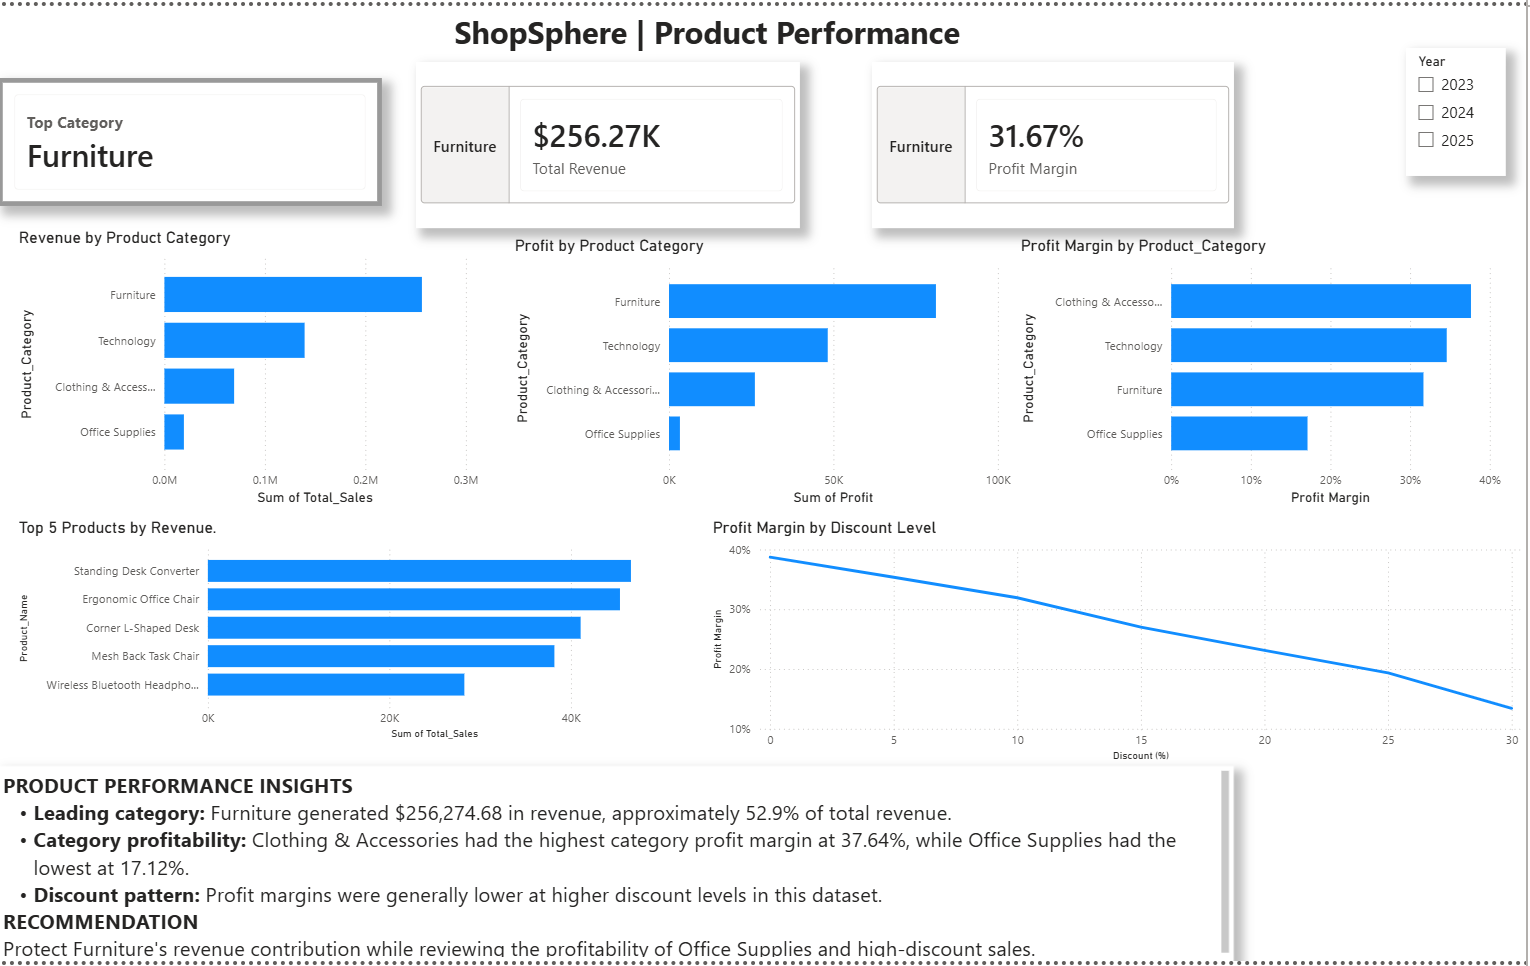

The page's visual inventory and layout, read from the dashboard file:
{"tool":"powerbi","page":{"name":"Page 2","canvas":[1600,1000],"ordinal":1},"visuals":[{"type":"clusteredBarChart","title":"Profit by Product Category","fields":{"Y":["Sum(global_ecommerce_sales.Profit)"],"Category":["global_ecommerce_sales.Product_Category"]},"box":[536.1,240.8,529.8,286.9],"z":0},{"type":"clusteredBarChart","fields":{"Y":["global_ecommerce_sales.Profit Margin"],"Category":["global_ecommerce_sales.Product_Category"]},"box":[1066,240.8,513.1,286.9],"z":1000},{"type":"barChart","title":"Revenue by Product Category","fields":{"Category":["global_ecommerce_sales.Product_Category"],"Y":["Sum(global_ecommerce_sales.Total_Sales)"]},"box":[16.8,232.5,492.1,295.3],"z":2000},{"type":"slicer","fields":{"Values":["global_ecommerce_sales.Order_Date.Variation.Date Hierarchy.Year"]},"box":[1474.3,44,104.7,134],"z":3000},{"type":"textbox","box":[289,0,906.8,150.8],"z":4000},{"type":"cardVisual","fields":{"Data":["global_ecommerce_sales.Total Revenue"],"Rows":["global_ecommerce_sales.Product_Category"]},"box":[437.7,58.6,402.1,173.8],"z":5000},{"type":"cardVisual","fields":{"Data":["global_ecommerce_sales.Profit Margin"],"Rows":["global_ecommerce_sales.Product_Category"]},"box":[915.2,58.6,379.1,173.8],"z":6000},{"type":"lineChart","title":"Profit Margin by Discount Level","fields":{"Category":["global_ecommerce_sales.Discount_Percent"],"Y":["global_ecommerce_sales.Profit Margin"]},"box":[743.5,536.1,856.5,259.7],"z":8000},{"type":"textbox","box":[0,795.8,1294.2,205.2],"z":9000},{"type":"clusteredBarChart","title":"Top 5 Products by Revenue.","fields":{"Y":["Sum(global_ecommerce_sales.Total_Sales)"],"Category":["global_ecommerce_sales.Product_Name"]},"box":[16.8,536.1,693.2,236.6],"z":9001},{"type":"cardVisual","fields":{"Data":["global_ecommerce_sales.Top Category"]},"box":[0,75.4,402.1,134],"z":9002}]}

Visuals, with their boxes in screenshot pixels (x1, y1, x2, y2), scaled from the page's 1600x1000 canvas onto the 1530x966 screenshot:
"Profit by Product Category" clusteredBarChart: <bbox>513, 233, 1019, 510</bbox>
clusteredBarChart - global_ecommerce_sales.Profit Margin x global_ecommerce_sales.Product_Category: <bbox>1019, 233, 1510, 510</bbox>
"Revenue by Product Category" barChart: <bbox>16, 225, 487, 510</bbox>
slicer - global_ecommerce_sales.Order_Date.Variation.Date Hierarchy.Year: <bbox>1410, 43, 1510, 172</bbox>
textbox: <bbox>276, 0, 1143, 146</bbox>
cardVisual - global_ecommerce_sales.Total Revenue x global_ecommerce_sales.Product_Category: <bbox>419, 57, 803, 224</bbox>
cardVisual - global_ecommerce_sales.Profit Margin x global_ecommerce_sales.Product_Category: <bbox>875, 57, 1238, 224</bbox>
"Profit Margin by Discount Level" lineChart: <bbox>711, 518, 1529, 769</bbox>
textbox: <bbox>0, 769, 1238, 965</bbox>
"Top 5 Products by Revenue." clusteredBarChart: <bbox>16, 518, 679, 746</bbox>
cardVisual - global_ecommerce_sales.Top Category: <bbox>0, 73, 385, 202</bbox>
